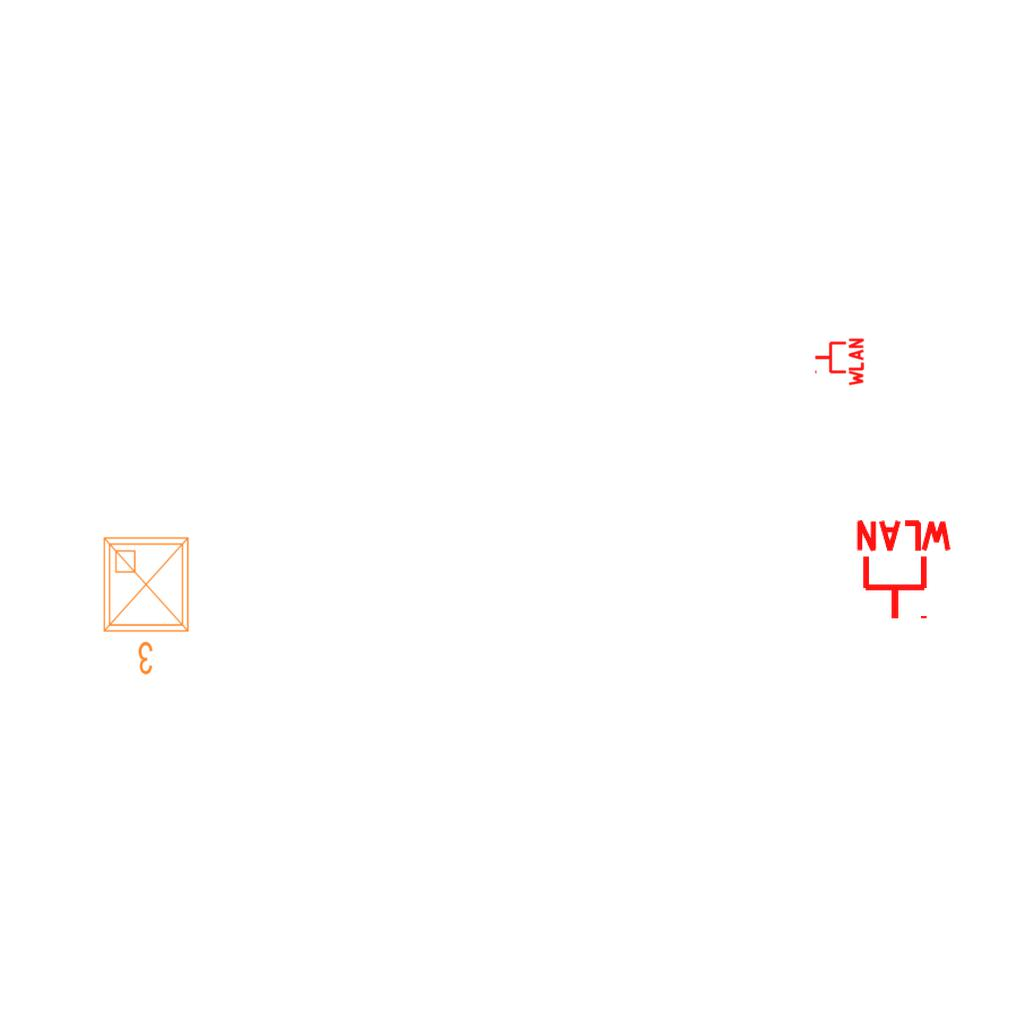Einbaudownlights_LED_Konferenzraeume: (96, 530, 200, 680)
WLAN: (852, 518, 956, 623), (813, 336, 865, 388)
